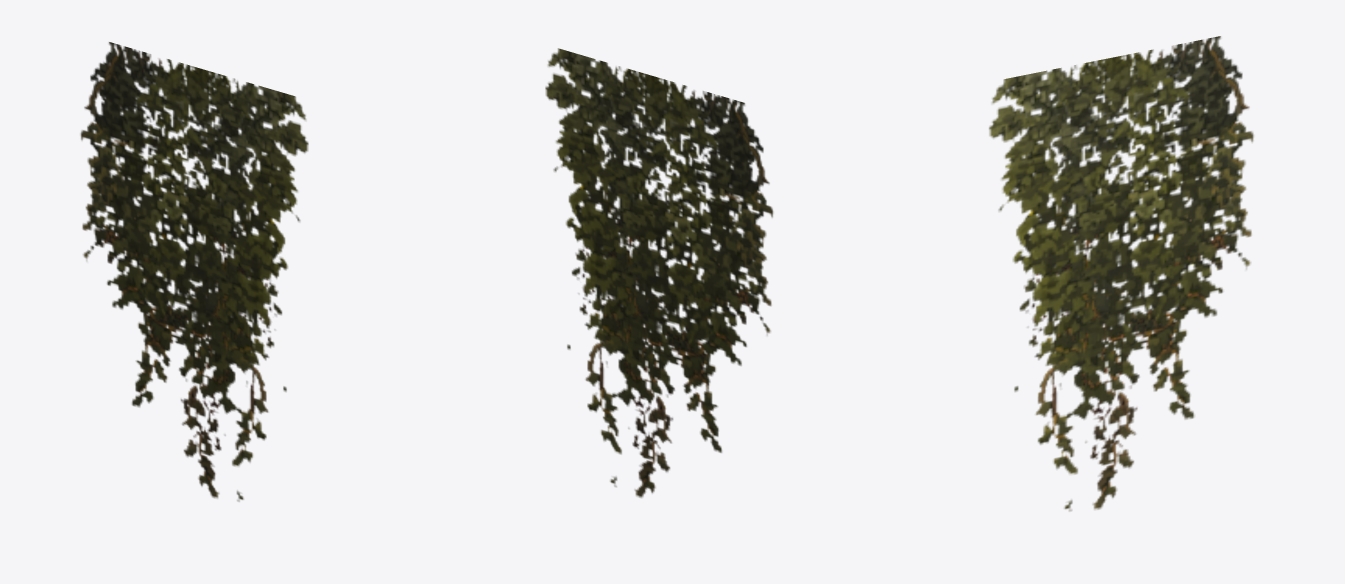
File: GH_1_Ivy_7.gltf
3 views of the same model, side by side, from view 1: azimuth 30°, elevation 25°; view 2: azimuth 210°, elevation 25°; view 3: azimuth 270°, elevation 25° (orthographic). The views are drawn at different scales.
Visible parts, largest first — view 1: GH_1_Ivy_7; view 2: GH_1_Ivy_7; view 3: GH_1_Ivy_7.
Boxes of the visible parts, box(x1,y1,x2,y2) form: GH_1_Ivy_7: box(80, 42, 308, 501); GH_1_Ivy_7: box(545, 48, 773, 497); GH_1_Ivy_7: box(989, 36, 1253, 511).
Size of the model in its own units: 1.12 by 2.62 by 2.37.
Materials: 1 (1 with a texture image).
